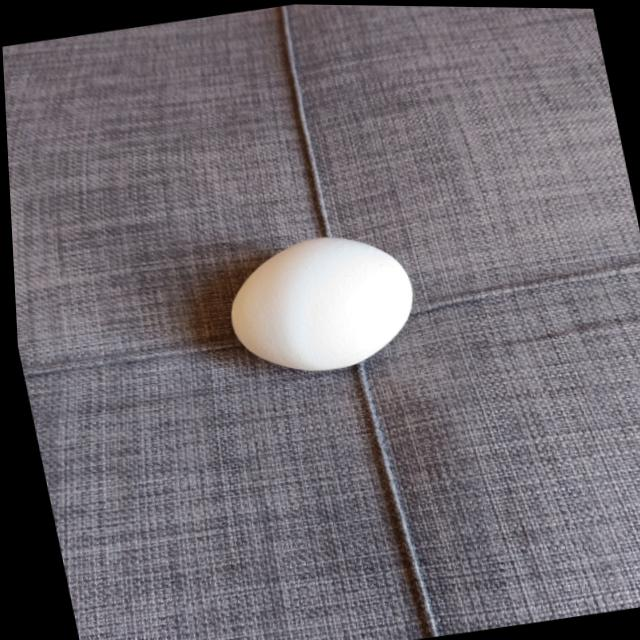egg: (214, 225, 425, 382)
